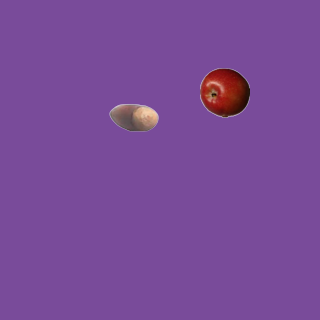Apple Braeburn: (199, 67, 249, 117)
Hazelnut: (108, 92, 158, 142)
